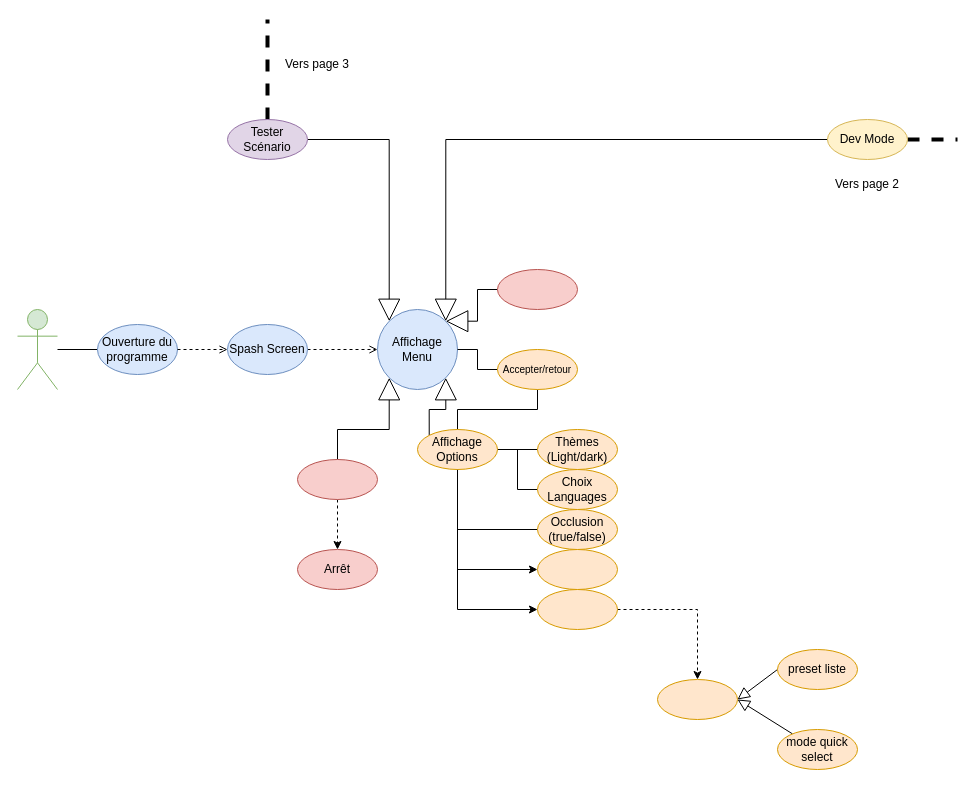
The diagram is 978 pixels wide and 787 high, and some of its shapes have lost their labels. The box of each missing label's shape, as (x1, y1, x2, y2) in pixels:
Actor: (16, 308, 58, 390)
Configuer audio: (536, 588, 618, 630)
Configurer touches: (536, 548, 618, 590)
EQ personalisé: (656, 678, 738, 720)
Lien Github: (496, 268, 578, 310)
Quitter: (296, 458, 378, 500)
